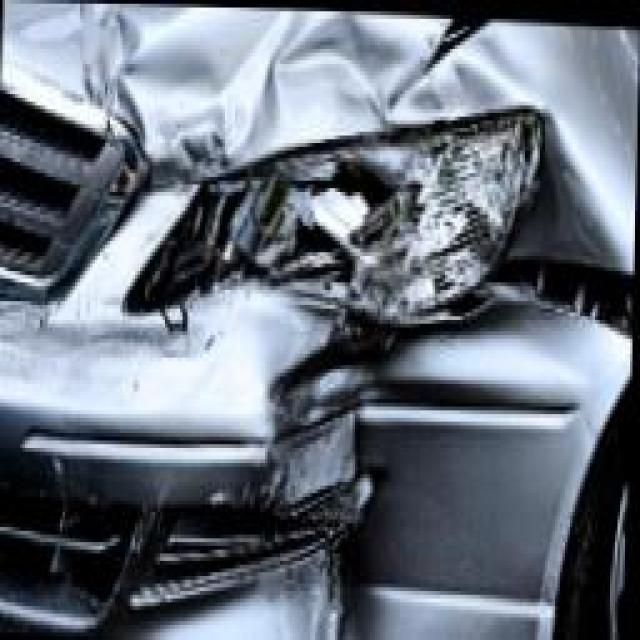Bonnet: (28, 8, 451, 199)
Bumper: (22, 305, 611, 639)
Light: (175, 109, 539, 326)
